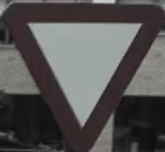Give way: (5, 5, 154, 148)
